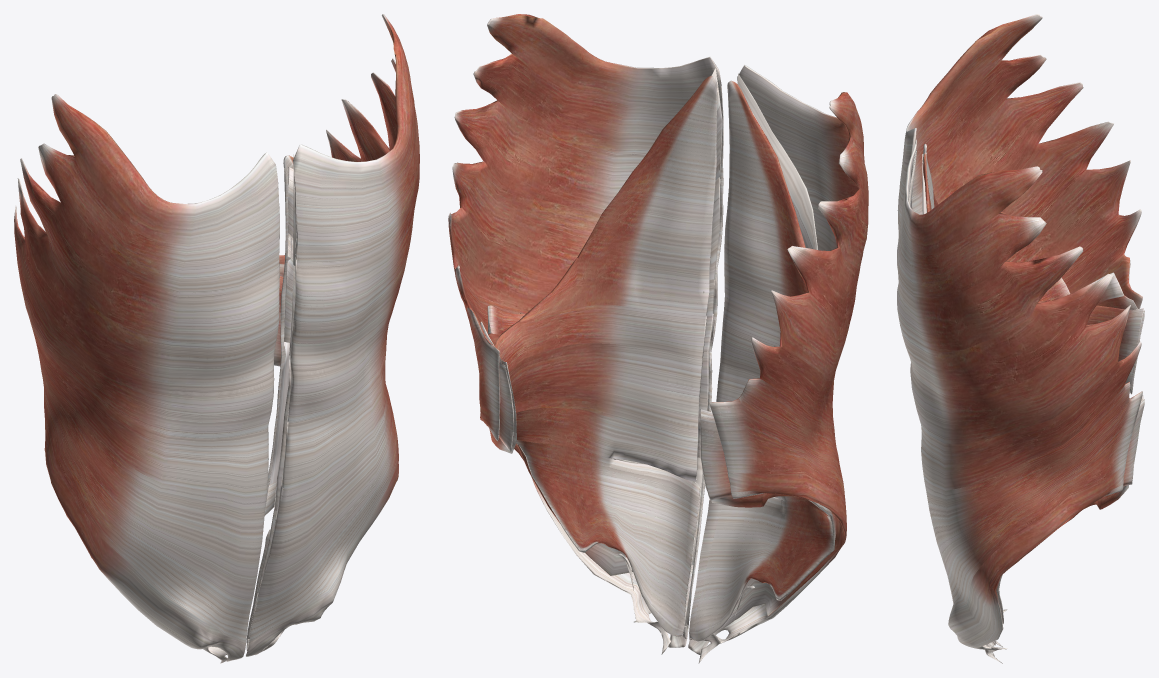
The model's file is abdo_wall_s124_male.glb.
The picture shows the model from 3 angles, left to right: view 1: azimuth 30°, elevation 25°; view 2: azimuth 150°, elevation 25°; view 3: azimuth 270°, elevation 25°; orthographic projection. The views are drawn at different scales.
Parts seen in each view (by area): view 1: External abdominal oblique muscle.r, External abdominal oblique muscle.l, Internal abdominal oblique muscle.l, Transverse abdominal muscle.l; view 2: Transverse abdominal muscle.l, External abdominal oblique muscle.l, External abdominal oblique muscle.r, Aponeurosis of transverse abdominal muscle.l, Transverse abdominal muscle.r, Aponeurosis of transverse abdominal muscle.r, Internal abdominal oblique muscle.r, Internal abdominal oblique muscle.l; view 3: External abdominal oblique muscle.l, External abdominal oblique muscle.r, Transverse abdominal muscle.r, Internal abdominal oblique muscle.r, Internal abdominal oblique muscle.l, Transverse abdominal muscle.l.
Boxes of the visible parts, x1,y1,x2,y2 form: External abdominal oblique muscle.r: (14,94,279,663); External abdominal oblique muscle.l: (246,14,419,656); Internal abdominal oblique muscle.l: (248,154,295,639); Transverse abdominal muscle.l: (265,155,293,509); Transverse abdominal muscle.l: (489,76,717,590); External abdominal oblique muscle.l: (448,14,723,654); External abdominal oblique muscle.r: (688,65,868,663); Aponeurosis of transverse abdominal muscle.l: (516,440,700,636); Transverse abdominal muscle.r: (700,80,832,615); Aponeurosis of transverse abdominal muscle.r: (689,497,836,641); Internal abdominal oblique muscle.r: (700,73,841,640); Internal abdominal oblique muscle.l: (480,68,722,636); External abdominal oblique muscle.l: (897,143,1142,663); External abdominal oblique muscle.r: (897,14,1142,646); Transverse abdominal muscle.r: (922,144,1143,385); Internal abdominal oblique muscle.r: (911,139,1144,394); Internal abdominal oblique muscle.l: (909,149,1144,645); Transverse abdominal muscle.l: (923,152,1143,509).
Size of the model in its own units: 0.2874 by 0.4457 by 0.1771.
Materials: 1 (1 with a texture image).
